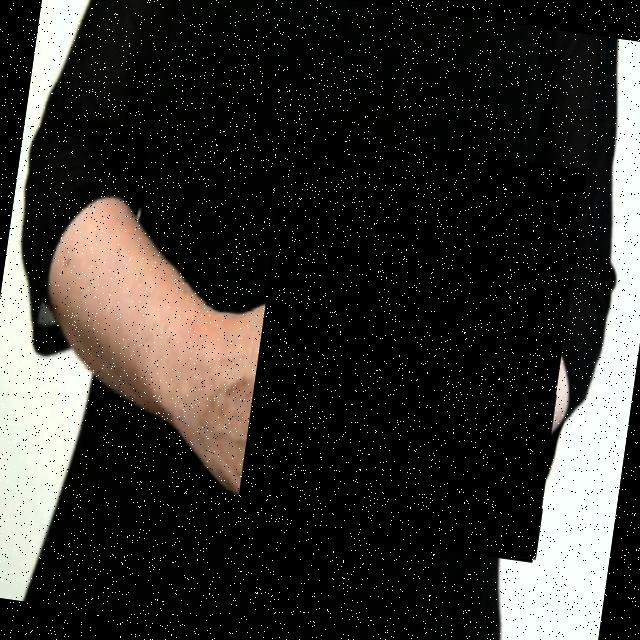J: (235, 131, 590, 565)
